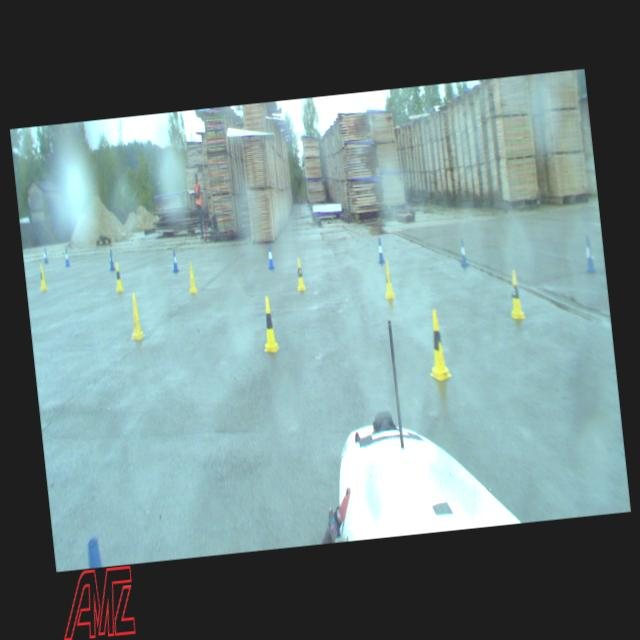blue_cone: (582, 234, 596, 272), (458, 238, 468, 267), (266, 244, 274, 270), (376, 238, 384, 263), (170, 249, 178, 272), (108, 250, 114, 270), (64, 247, 70, 266), (42, 248, 48, 264)
yellow_cone: (422, 308, 452, 382), (258, 295, 280, 353), (506, 269, 525, 319), (126, 292, 144, 340), (382, 260, 394, 298), (186, 261, 198, 293), (294, 258, 305, 291), (114, 262, 124, 291), (37, 264, 47, 290)
